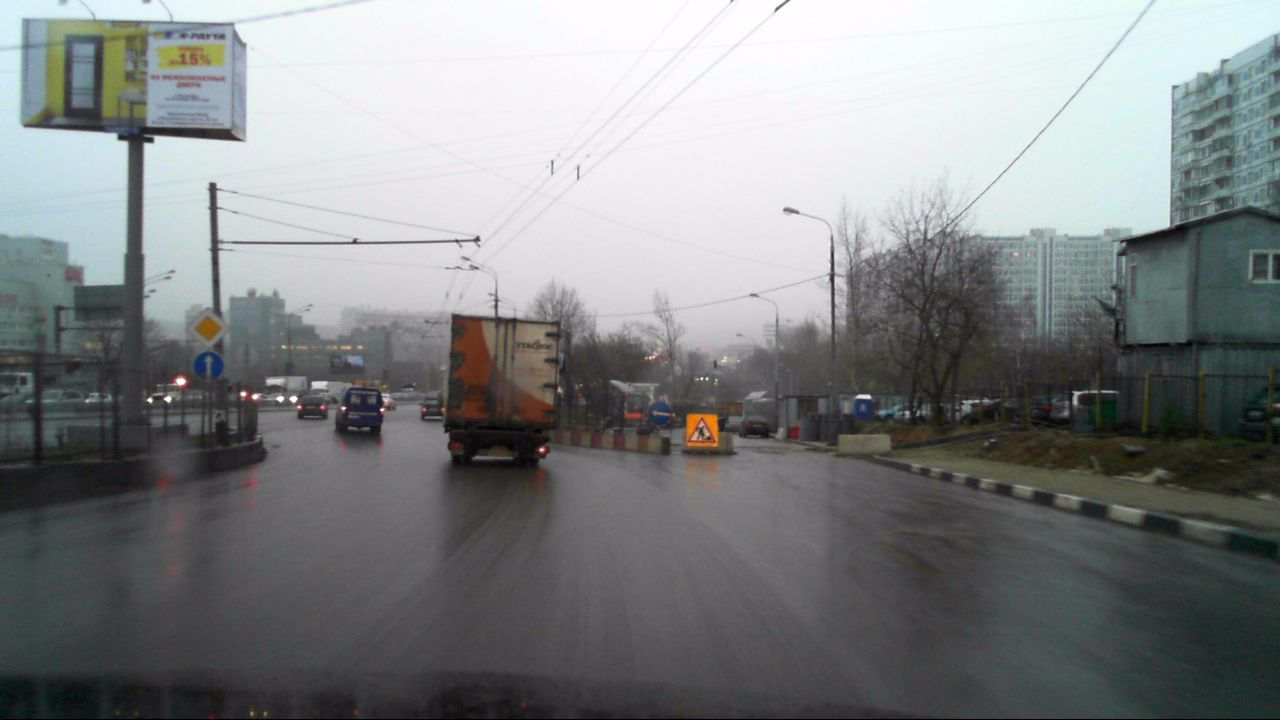Turn Left: (649, 402, 672, 425)
